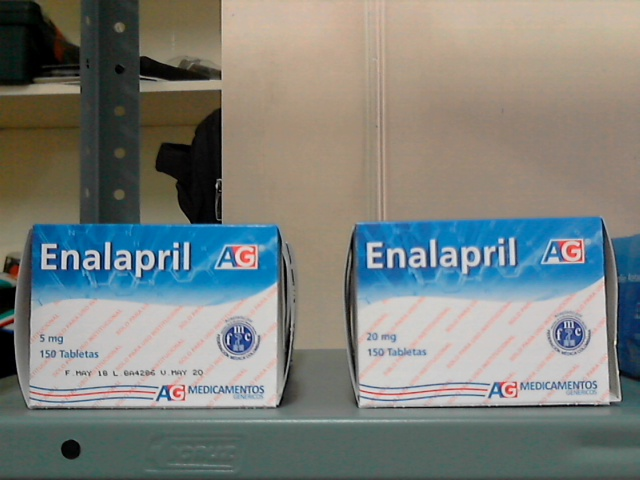AG: (357, 221, 607, 403), (33, 225, 276, 407)
